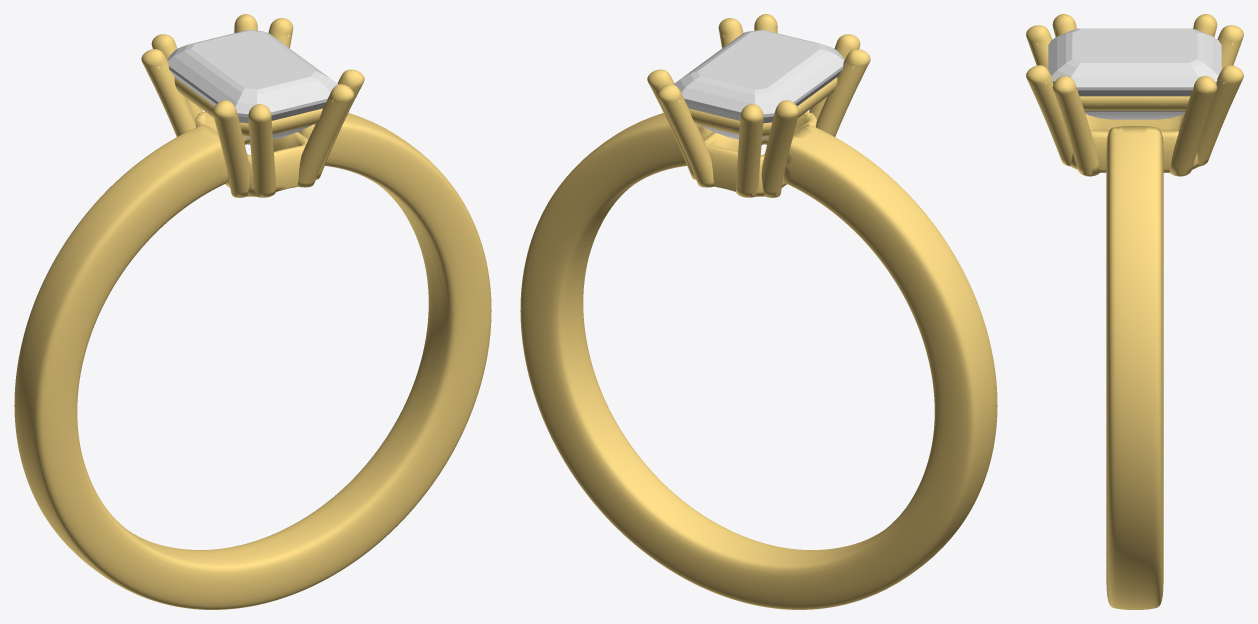
The model's file is diamond-emerald-yellowgold-8prong-straightband-solitaire.glb.
3 views of the same model, side by side, from view 1: azimuth 30°, elevation 25°; view 2: azimuth 150°, elevation 25°; view 3: azimuth 270°, elevation 25° (orthographic).
Parts seen in each view (by area): view 1: metal.002, stone; view 2: metal.002, stone; view 3: metal.002, stone.
Part boxes in pixels (x1,y1,x2,y2): metal.002: (14, 14, 491, 609); stone: (167, 29, 338, 139); metal.002: (520, 14, 997, 609); stone: (673, 29, 844, 139); metal.002: (1026, 14, 1243, 609); stone: (1048, 28, 1221, 119).
Size of the model in its own units: 20.5 by 22.95 by 8.4.
